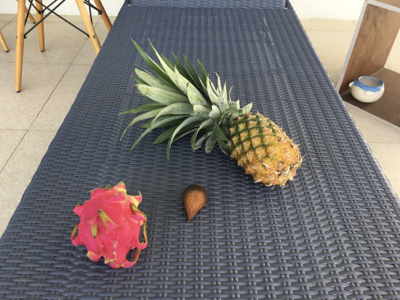dragon fruit: (71, 183, 149, 269)
pineapple: (121, 39, 302, 188)
snake fruit: (182, 184, 207, 223)
